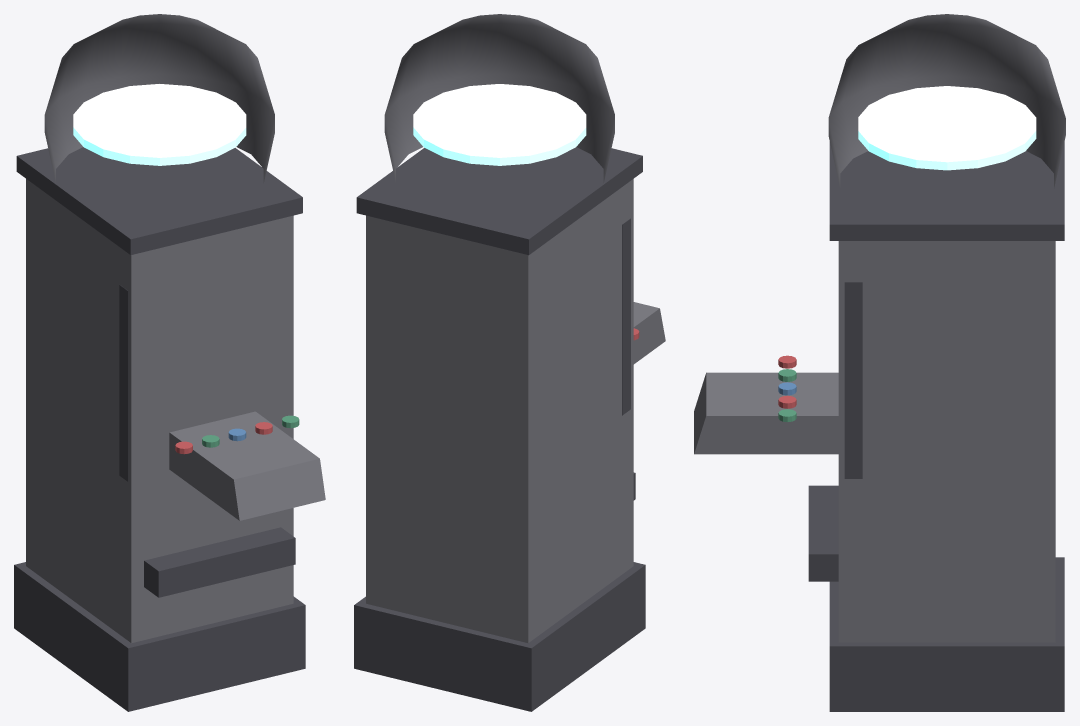
File: slotRound.glb
3 renders of one model, left to right at view 1: azimuth 30°, elevation 25°; view 2: azimuth 150°, elevation 25°; view 3: azimuth 270°, elevation 25°, orthographic. The views are drawn at different scales.
Visible parts, largest first — view 1: slot-round-top; view 2: slot-round-top; view 3: slot-round-top.
Part boxes in pixels (bbox=[...]): slot-round-top: bbox=[14, 14, 325, 711]; slot-round-top: bbox=[354, 14, 665, 711]; slot-round-top: bbox=[694, 14, 1065, 711].
Size of the model in its own units: 0.8 by 2.3 by 1.23.
